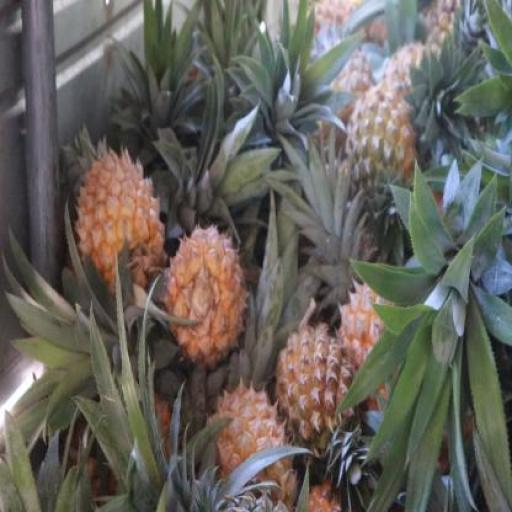Pineapple - v8 v1: (76, 153, 166, 299), (278, 324, 358, 472), (204, 381, 294, 504), (166, 227, 246, 361)
